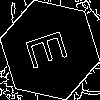E: (25, 25, 77, 71)
